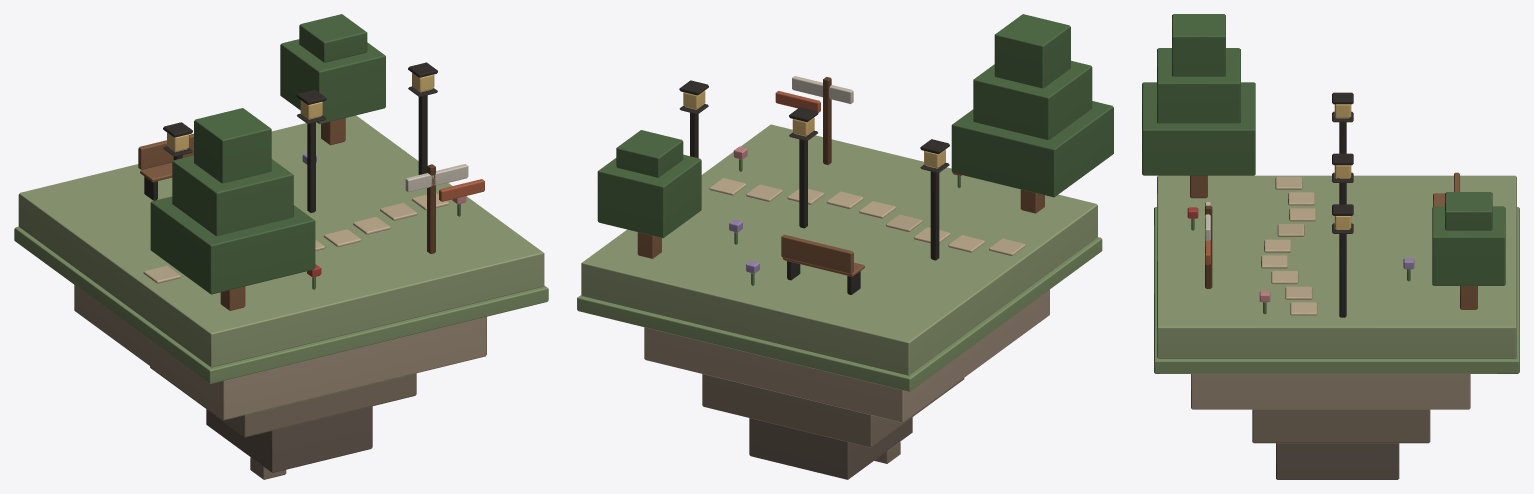
File: region_01.glb
3 views of the same model, side by side, from view 1: azimuth 30°, elevation 25°; view 2: azimuth 150°, elevation 25°; view 3: azimuth 270°, elevation 25° (orthographic). The views are drawn at different scales.
Parts seen in each view (by area): view 1: region_01_static, region_01_glow; view 2: region_01_static, region_01_glow; view 3: region_01_static, region_01_glow.
Part boxes in pixels (<box>): region_01_static: <box>14,14,548,479</box>; region_01_glow: <box>167,73,434,152</box>; region_01_static: <box>577,14,1113,479</box>; region_01_glow: <box>683,91,945,168</box>; region_01_static: <box>1142,14,1519,479</box>; region_01_glow: <box>1334,104,1351,229</box>.
Size of the model in its own units: 6.2 by 7.12 by 6.3.
